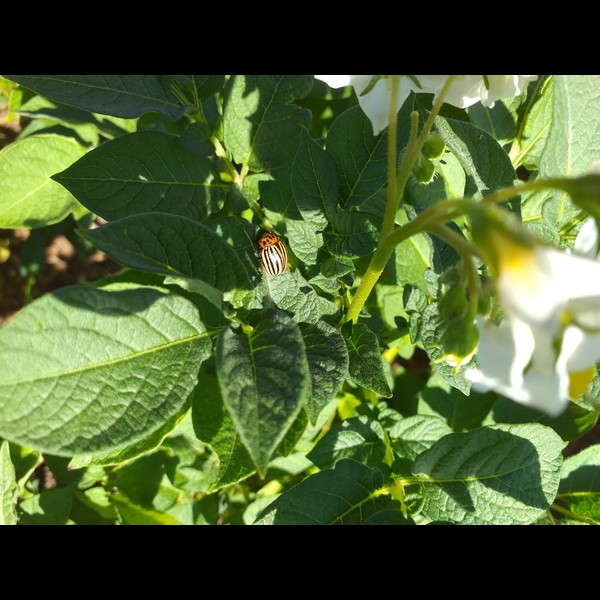hrosc: (255, 228, 287, 275)
